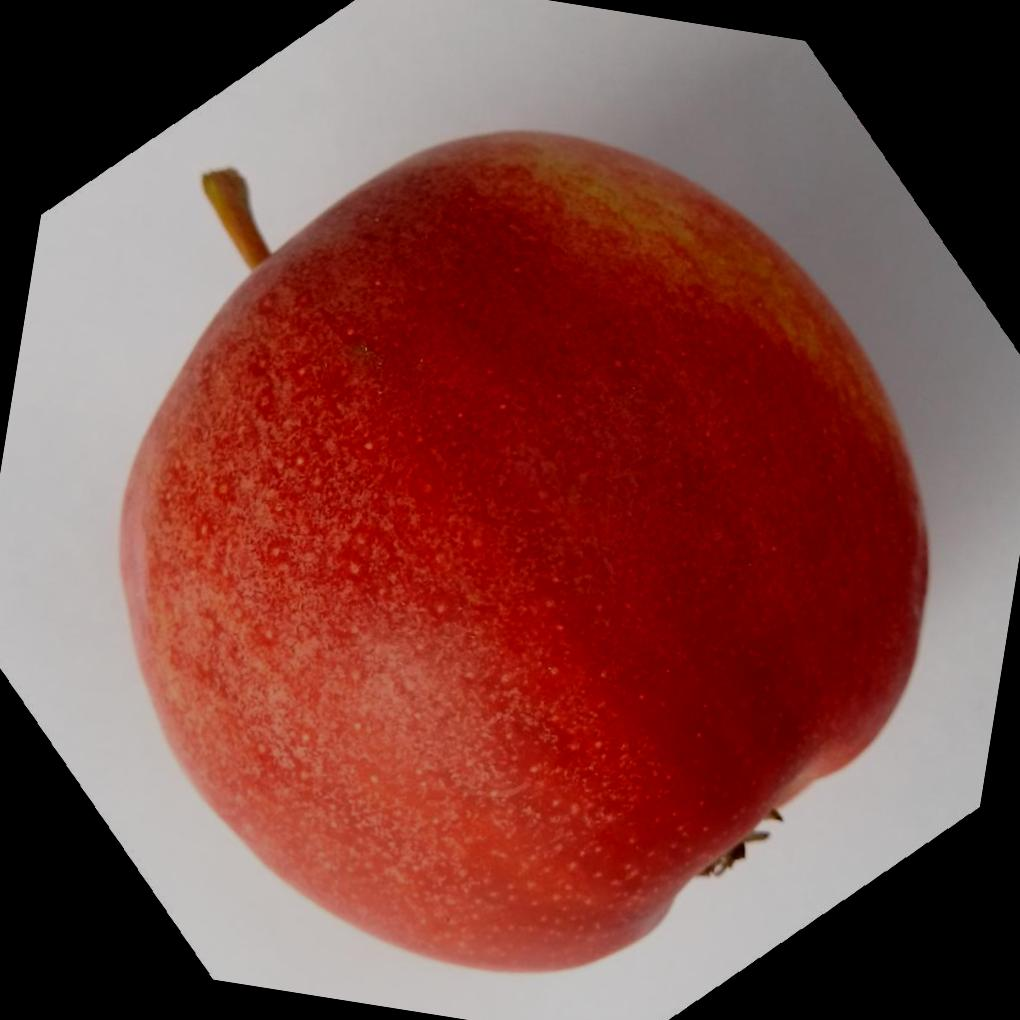FreshGuava: (109, 130, 932, 981)
